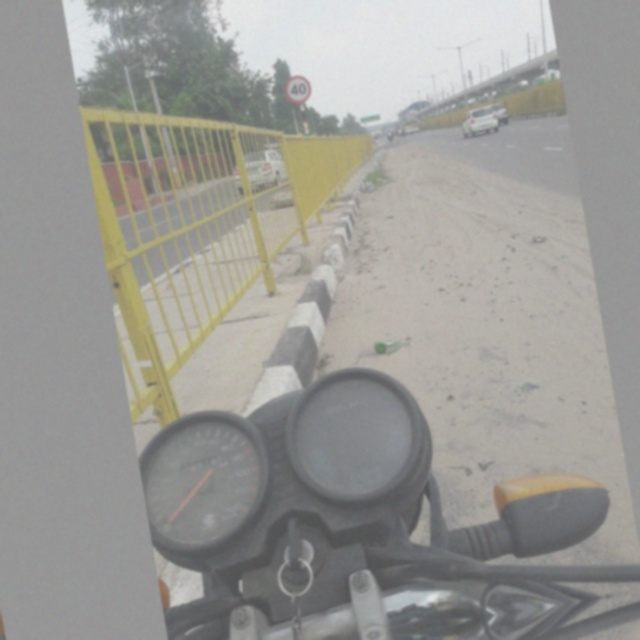Speed_Limit_40: (278, 69, 319, 109)
